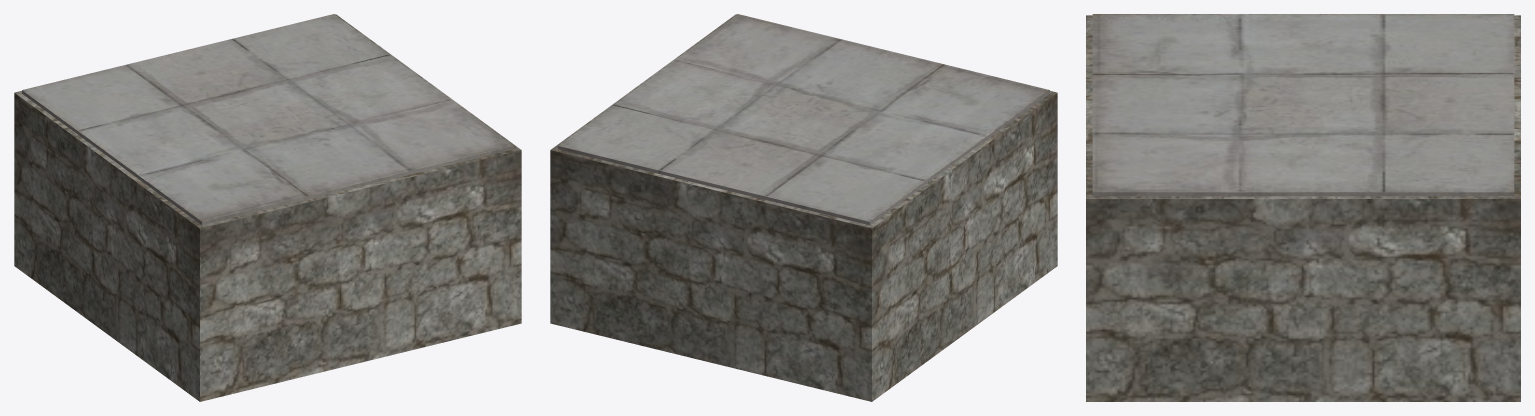
File: stone_foundation_square_mid_textured.glb
The picture shows the model from 3 angles, left to right: view 1: azimuth 30°, elevation 25°; view 2: azimuth 150°, elevation 25°; view 3: azimuth 270°, elevation 25°; orthographic projection. The views are drawn at different scales.
Visible parts, largest first — view 1: Cube; view 2: Cube; view 3: Cube.
Part boxes in pixels (<box>): Cube: <box>14,14,521,401</box>; Cube: <box>550,14,1057,401</box>; Cube: <box>1086,14,1520,401</box>.
Size of the model in its own units: 2 by 1.05 by 2.
Materials: 1 (1 with a texture image).
